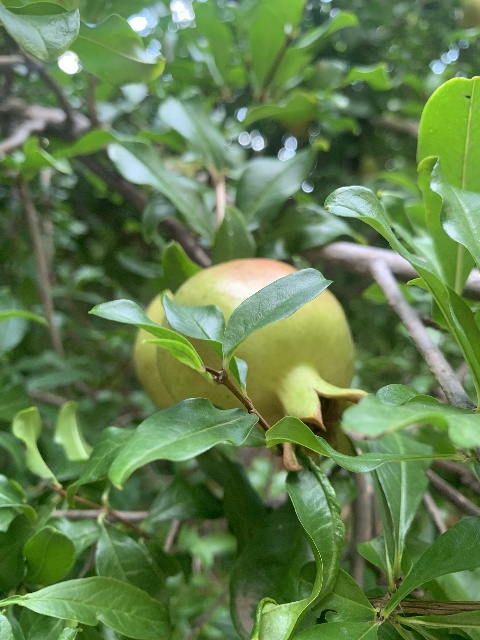mid-growth: (156, 258, 373, 471)
